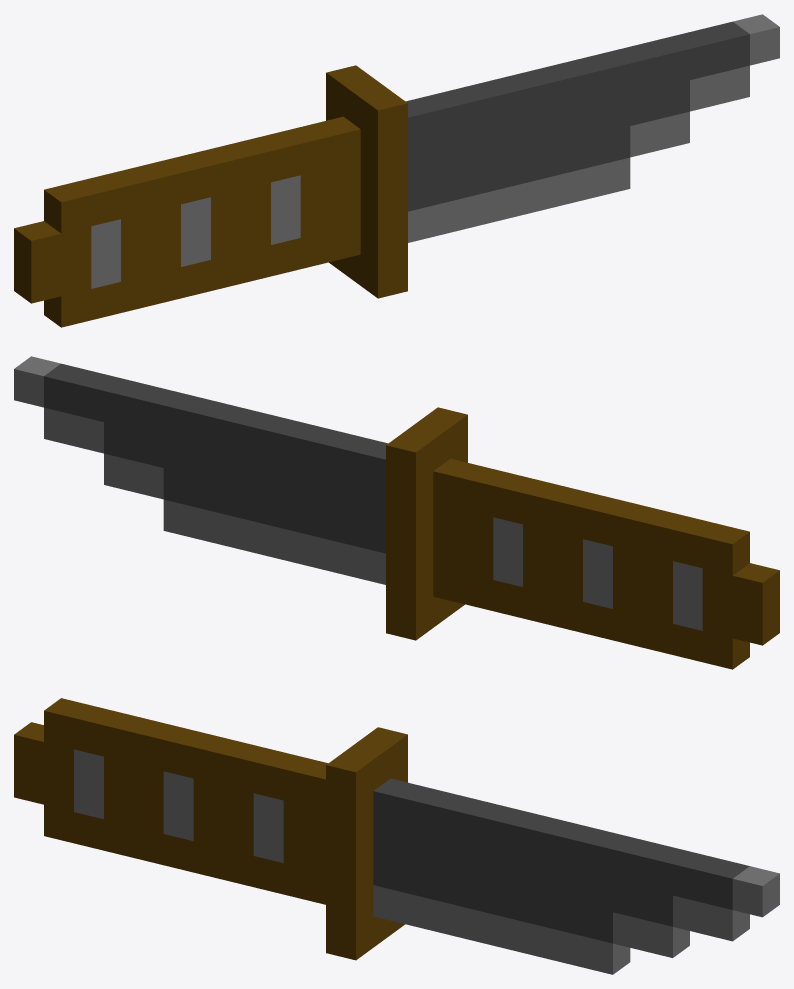
File: Knife.obj
The picture shows the model from 3 angles, top to bottom: view 1: azimuth 30°, elevation 25°; view 2: azimuth 150°, elevation 25°; view 3: azimuth 330°, elevation 25°; orthographic projection.
Bounding box in the file's own units: 2.5 × 0.6 × 0.3.
Materials: 1 (1 with a texture image).
